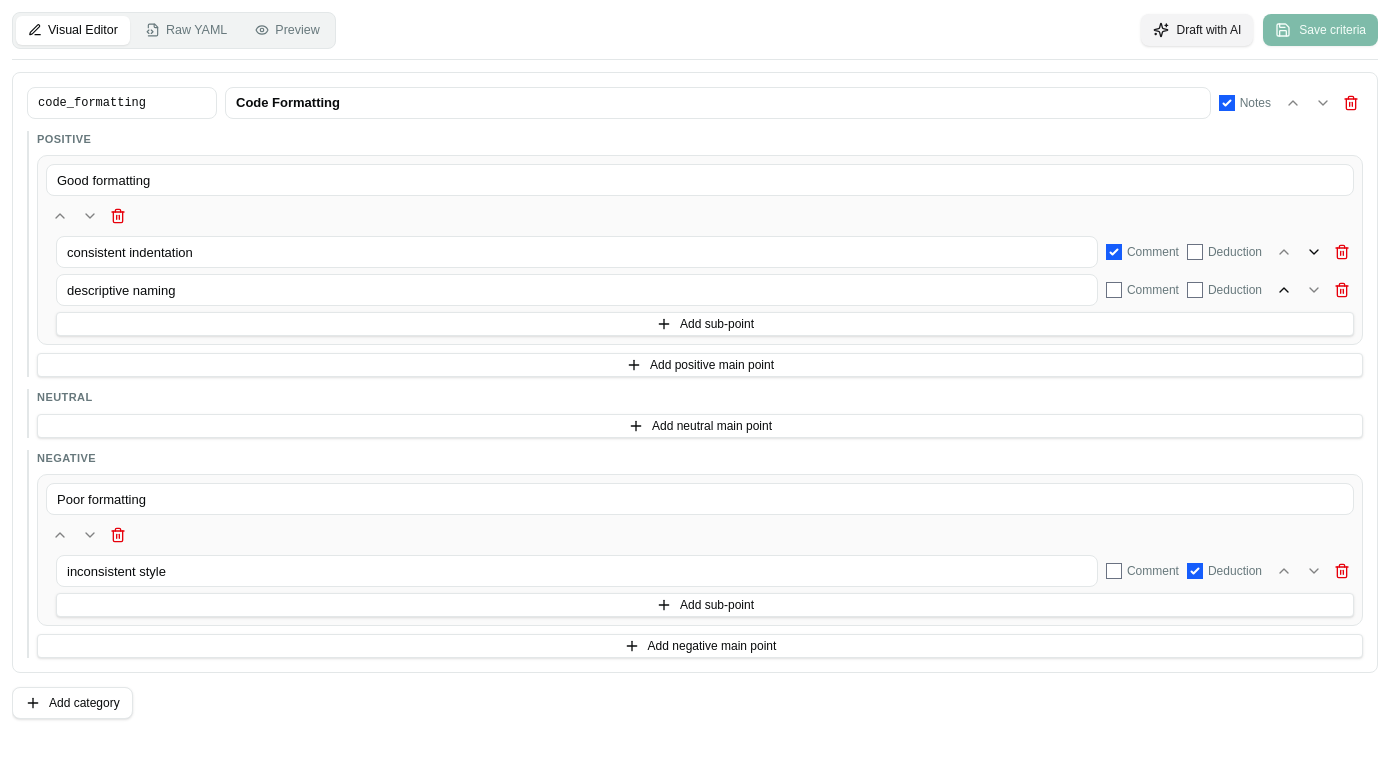
Test: CriteriaEditorTabs › keeps editor state and shows the message when saving fails
Replace the text in the field showing "Code Formatting" with "Code Formatting v2" at (718, 103), box 225,87 -> 1211,119
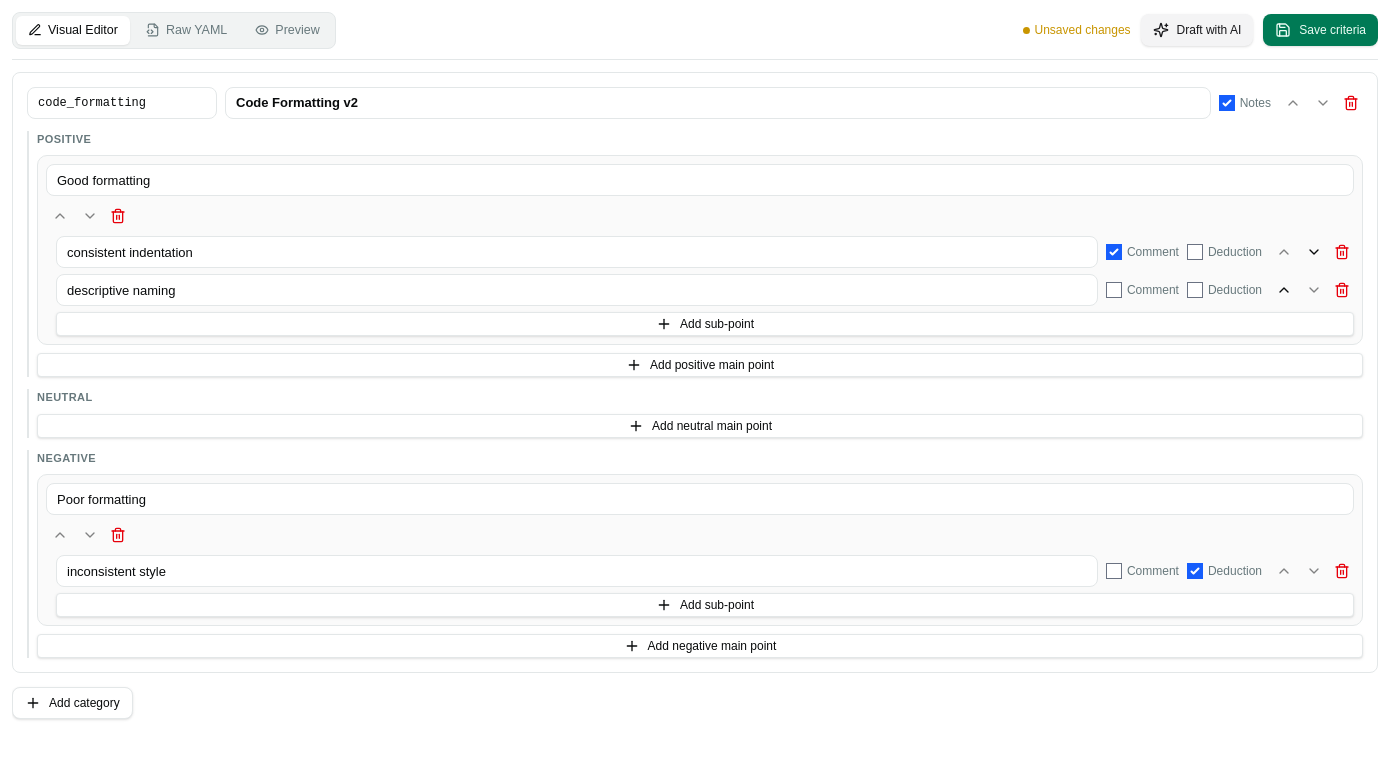
Click the button "Save criteria".
click(1321, 30)  # box 1263,14 -> 1378,46
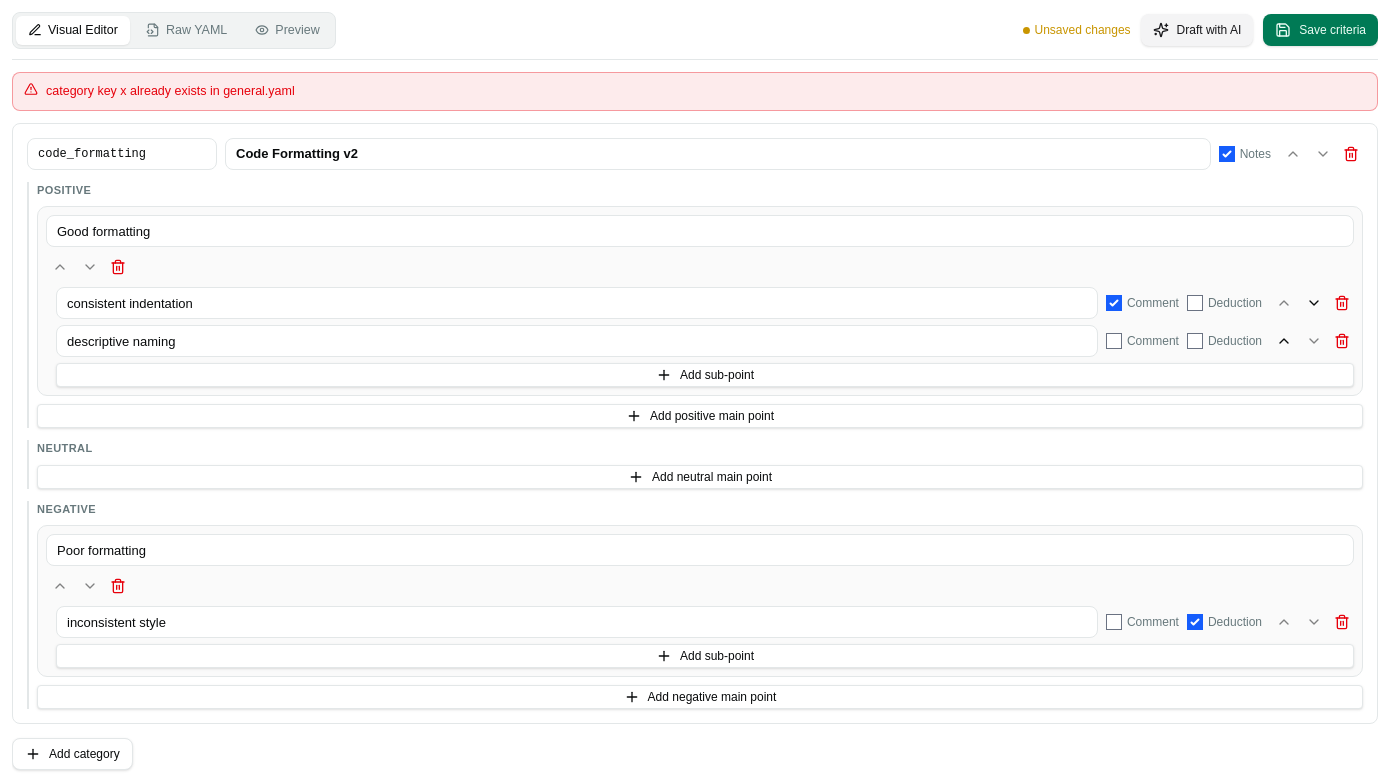
Check: the text "category key x already exists in general.yaml" is shown, box 46,82 -> 295,101
